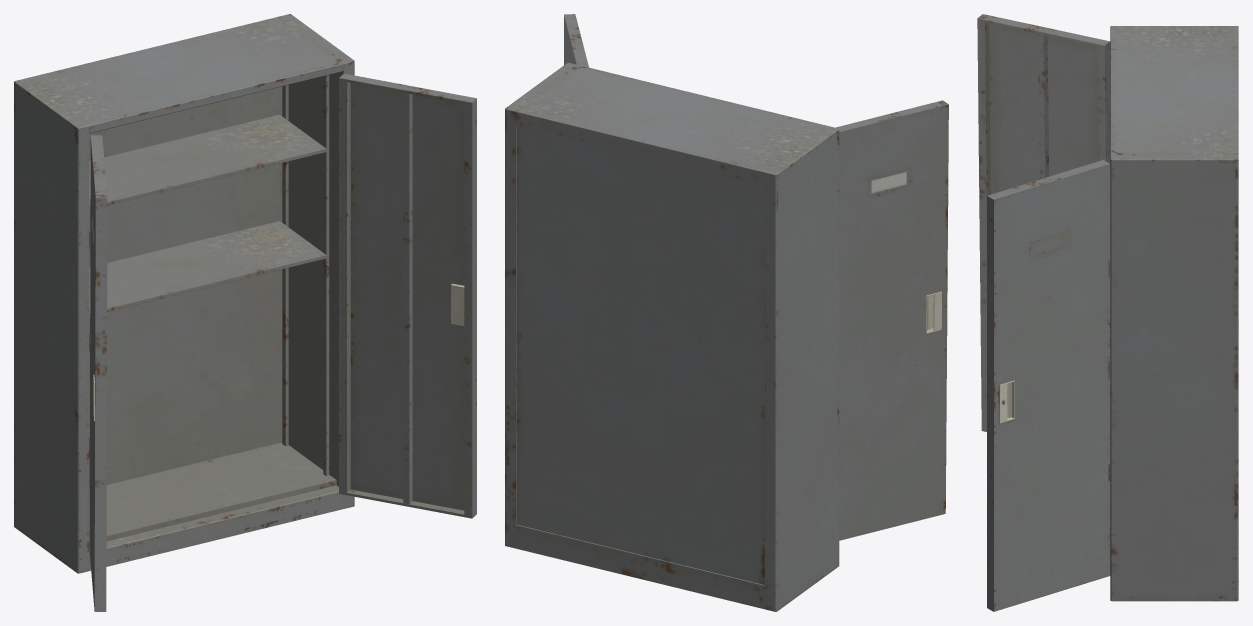
The model's file is 033_OfficeLockerOpen.fbx.
3 renders of one model, left to right at view 1: azimuth 30°, elevation 25°; view 2: azimuth 150°, elevation 25°; view 3: azimuth 270°, elevation 25°, orthographic.
Visible parts, largest first — view 1: LOD_1_Group_0_Sub_1__sm30_033_OfficeLocker03A_A_Mat; view 2: LOD_1_Group_0_Sub_1__sm30_033_OfficeLocker03A_A_Mat; view 3: LOD_1_Group_0_Sub_1__sm30_033_OfficeLocker03A_A_Mat.
Part boxes in pixels (x1,y1,x2,y2): LOD_1_Group_0_Sub_1__sm30_033_OfficeLocker03A_A_Mat: (14,14,476,611); LOD_1_Group_0_Sub_1__sm30_033_OfficeLocker03A_A_Mat: (505,14,948,611); LOD_1_Group_0_Sub_1__sm30_033_OfficeLocker03A_A_Mat: (977,14,1238,611).
Size of the model in its own units: 1.86 by 2.05 by 1.1.
